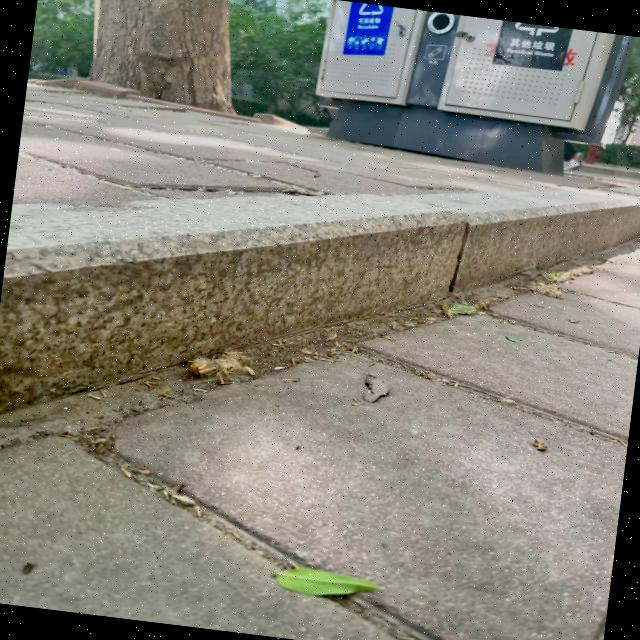curb: (1, 105, 640, 498)
